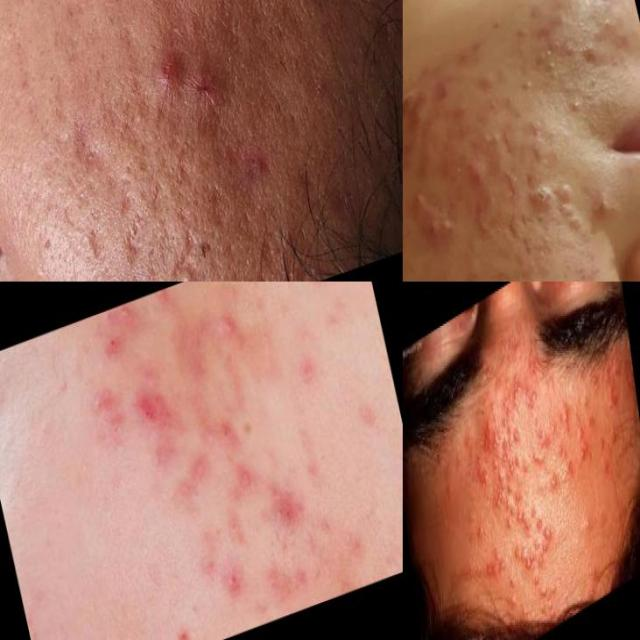8: (160, 32, 271, 166), (256, 461, 306, 534), (129, 373, 181, 436), (441, 142, 490, 206), (518, 112, 562, 171), (219, 546, 257, 603), (519, 170, 556, 220), (593, 175, 631, 222), (469, 202, 506, 242), (212, 299, 248, 340), (216, 402, 246, 449), (231, 458, 257, 498), (451, 36, 486, 64), (496, 164, 521, 199), (528, 561, 546, 598), (502, 490, 518, 530), (575, 435, 593, 469), (508, 371, 524, 408), (524, 381, 541, 415), (481, 551, 497, 586), (508, 476, 524, 509), (504, 450, 521, 481), (432, 80, 452, 106), (608, 382, 622, 416), (533, 507, 547, 540), (534, 423, 548, 454), (596, 427, 610, 458), (542, 520, 556, 550), (486, 430, 500, 459), (490, 487, 505, 514), (480, 465, 493, 496), (520, 516, 534, 544), (489, 453, 502, 482), (575, 418, 588, 447), (522, 548, 535, 576), (559, 401, 572, 426), (512, 424, 524, 451), (583, 408, 595, 432), (474, 449, 486, 473), (510, 542, 521, 568), (549, 418, 559, 444)
9: (116, 297, 150, 338)
blackheads: (107, 180, 158, 270), (62, 104, 113, 180), (190, 173, 244, 241), (408, 177, 456, 251), (72, 208, 116, 272), (403, 84, 437, 138), (554, 199, 589, 244), (552, 169, 582, 210)
pustules: (137, 33, 185, 109)
